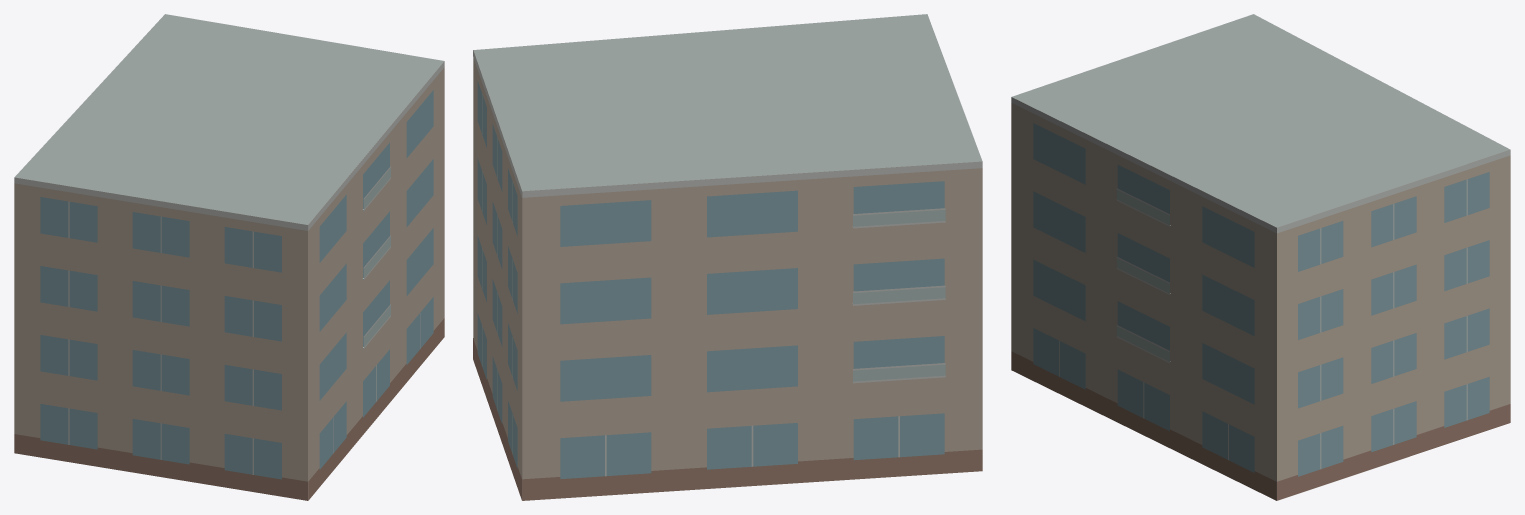
Rendered from survey-upis-33039556.glb.
The picture shows the model from 3 angles, left to right: view 1: azimuth 30°, elevation 25°; view 2: azimuth 150°, elevation 25°; view 3: azimuth 270°, elevation 25°; orthographic projection. The views are drawn at different scales.
Parts seen in each view (by area): view 1: survey-upis-33039556.tmp; view 2: survey-upis-33039556.tmp; view 3: survey-upis-33039556.tmp.
Boxes of the visible parts, <box> form: survey-upis-33039556.tmp: <box>14,14,444,500</box>; survey-upis-33039556.tmp: <box>473,14,982,500</box>; survey-upis-33039556.tmp: <box>1011,14,1510,500</box>.
Size of the model in its own units: 19.3 by 11.5 by 19.06.
